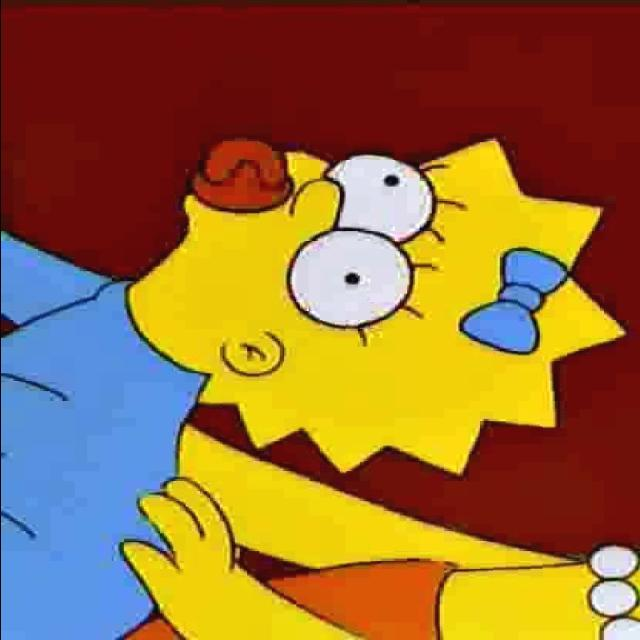Maggie Simpson: (124, 132, 630, 480)
